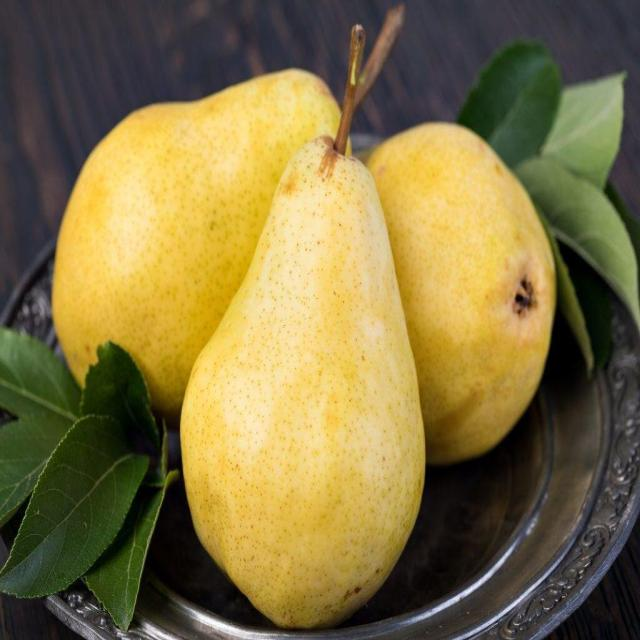pear: (48, 20, 560, 627), (178, 22, 428, 627)
